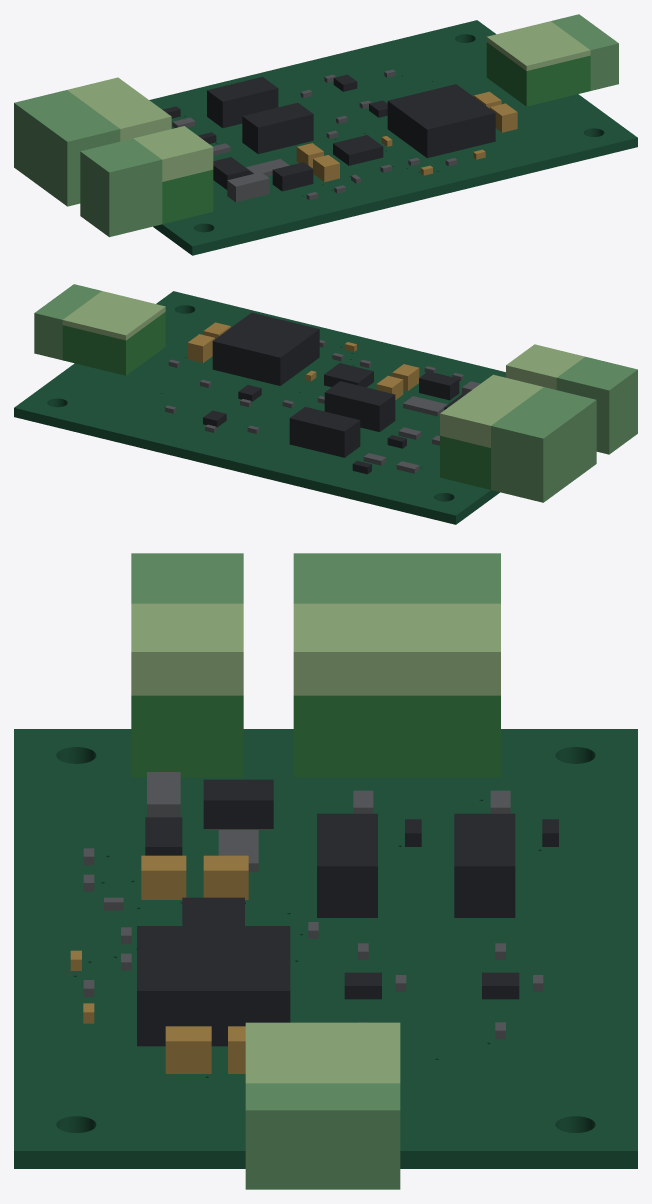
Rendered from base-b04-local.glb.
3 views of the same model, one above another, from view 1: azimuth 30°, elevation 25°; view 2: azimuth 150°, elevation 25°; view 3: azimuth 270°, elevation 25° (orthographic). The views are drawn at different scales.
Parts seen in each view (by area): view 1: PCB_drilled_native, J2_mating_plug_extension, J1_mating_plug_extension, L1, J3, J2_mated_height_reservation, J3_mated_height_reservation, U2, J1_mated_height_reservation, U3, J3_mating_plug_extension, J1 (+8 smaller); view 2: PCB_drilled_native, J2_mating_plug_extension, L1, J1_mating_plug_extension, J2_mated_height_reservation, J3, J3_mated_height_reservation, U3, U2, J3_mating_plug_extension, J2, J1_mated_height_reservation (+6 smaller); view 3: PCB_drilled_native, J2_mated_height_reservation, J2, J3_mating_plug_extension, L1, J2_mating_plug_extension, J1_mated_height_reservation, J3_mated_height_reservation, J1, U3, U2, J1_mating_plug_extension (+10 smaller).
Boxes of the visible parts, x1,y1,x2,y2 form: PCB_drilled_native: [149, 20, 637, 255]; J2_mating_plug_extension: [14, 90, 120, 206]; J1_mating_plug_extension: [80, 138, 162, 237]; L1: [387, 84, 495, 158]; J3: [486, 42, 590, 106]; J2_mated_height_reservation: [67, 77, 171, 141]; J3_mated_height_reservation: [486, 21, 590, 70]; U2: [242, 102, 313, 153]; J1_mated_height_reservation: [133, 126, 213, 181]; U3: [207, 77, 278, 127]; J3_mating_plug_extension: [551, 14, 618, 90]; J1: [162, 169, 213, 224]; PCB_drilled_native: [14, 291, 505, 524]; J2_mating_plug_extension: [491, 387, 596, 502]; L1: [212, 312, 319, 385]; J1_mating_plug_extension: [556, 356, 637, 454]; J2_mated_height_reservation: [440, 374, 543, 447]; J3: [62, 312, 165, 375]; J3_mated_height_reservation: [62, 291, 165, 340]; U3: [289, 407, 360, 457]; U2: [324, 381, 395, 431]; J3_mating_plug_extension: [34, 284, 101, 360]; J2: [440, 435, 490, 489]; J1_mated_height_reservation: [506, 344, 584, 389]; PCB_drilled_native: [14, 729, 637, 1168]; J2_mated_height_reservation: [293, 603, 500, 695]; J2: [293, 695, 500, 777]; J3_mating_plug_extension: [245, 1083, 400, 1189]; L1: [137, 926, 290, 1046]; J2_mating_plug_extension: [293, 553, 500, 603]; J1_mated_height_reservation: [131, 603, 243, 695]; J3_mated_height_reservation: [245, 1022, 400, 1083]; J1: [131, 695, 243, 777]; U3: [454, 813, 515, 917]; U2: [317, 813, 377, 917]; J1_mating_plug_extension: [131, 553, 243, 603].
Size of the model in its own units: 96.8 by 15.2 by 50.
